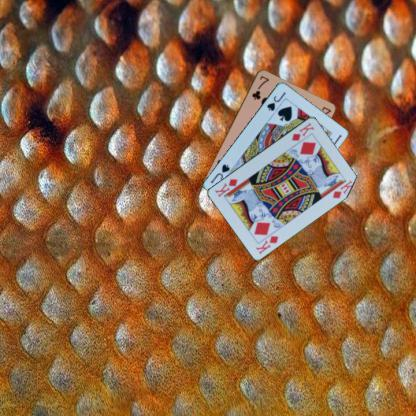7c: (249, 73, 270, 101)
Js: (264, 89, 287, 112)
Kd: (253, 233, 280, 255), (289, 120, 315, 142)
